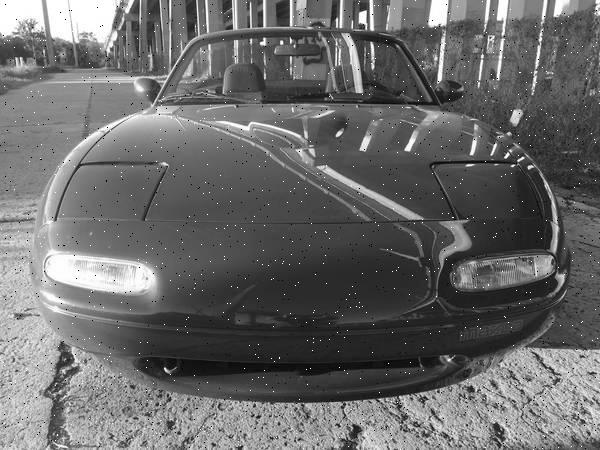Front_Bumper: (26, 256, 567, 399)
Front_Windshield: (156, 28, 439, 106)
Hood: (30, 102, 567, 303)
Left_Headlight: (451, 250, 558, 295)
Left_Mirror: (439, 76, 467, 100)
Right_Headlight: (41, 252, 153, 296)
Right_Mirror: (134, 77, 162, 104)
